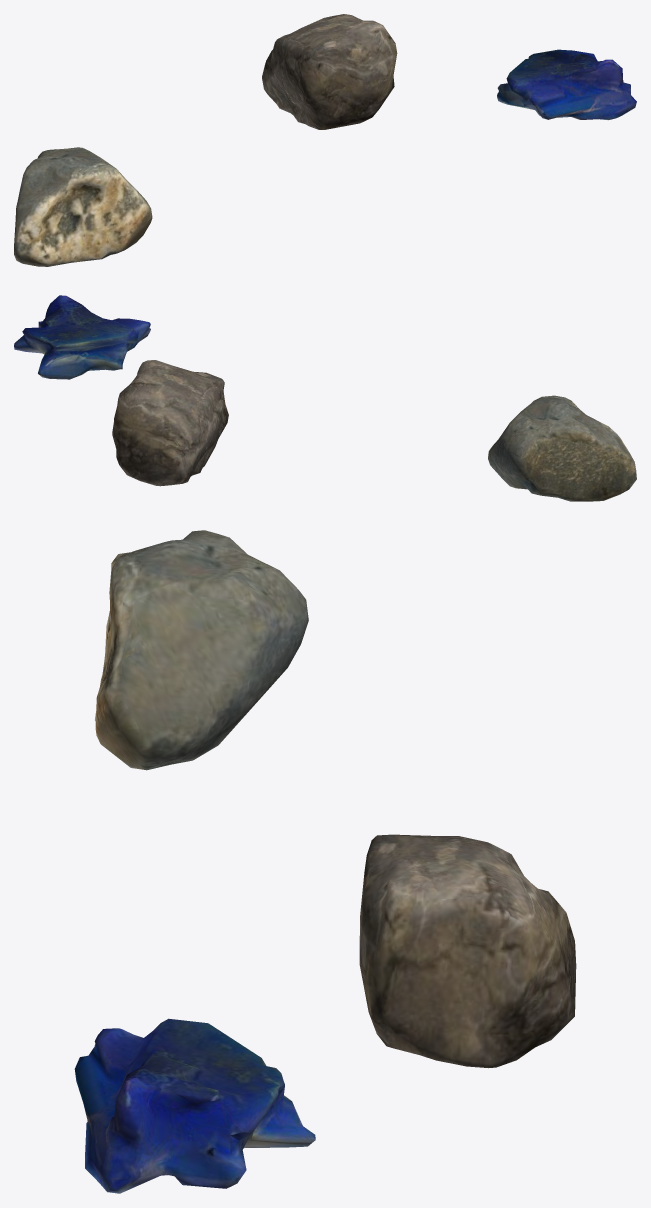
Rendered from Niflheim_Dry_River_Rocks.glb.
The picture shows the model from 3 angles, top to bottom: view 1: azimuth 30°, elevation 25°; view 2: azimuth 150°, elevation 25°; view 3: azimuth 270°, elevation 25°; orthographic projection. The views are drawn at different scales.
Parts seen in each view (by area): view 1: rock07, rock04, rock10; view 2: rock04, rock07, rock10; view 3: rock04, rock07, rock10.
Part boxes in pixels (box(x1,y1,x2,y2)): rock07: box(14, 147, 152, 266); rock04: box(262, 14, 397, 129); rock10: box(497, 49, 636, 120); rock04: box(112, 360, 228, 486); rock07: box(488, 395, 636, 501); rock10: box(14, 295, 150, 379); rock04: box(359, 834, 576, 1068); rock07: box(95, 530, 308, 770); rock10: box(74, 1018, 315, 1193).
Size of the model in its own units: 479 by 73.16 by 175.
Materials: 3 (3 with a texture image).
